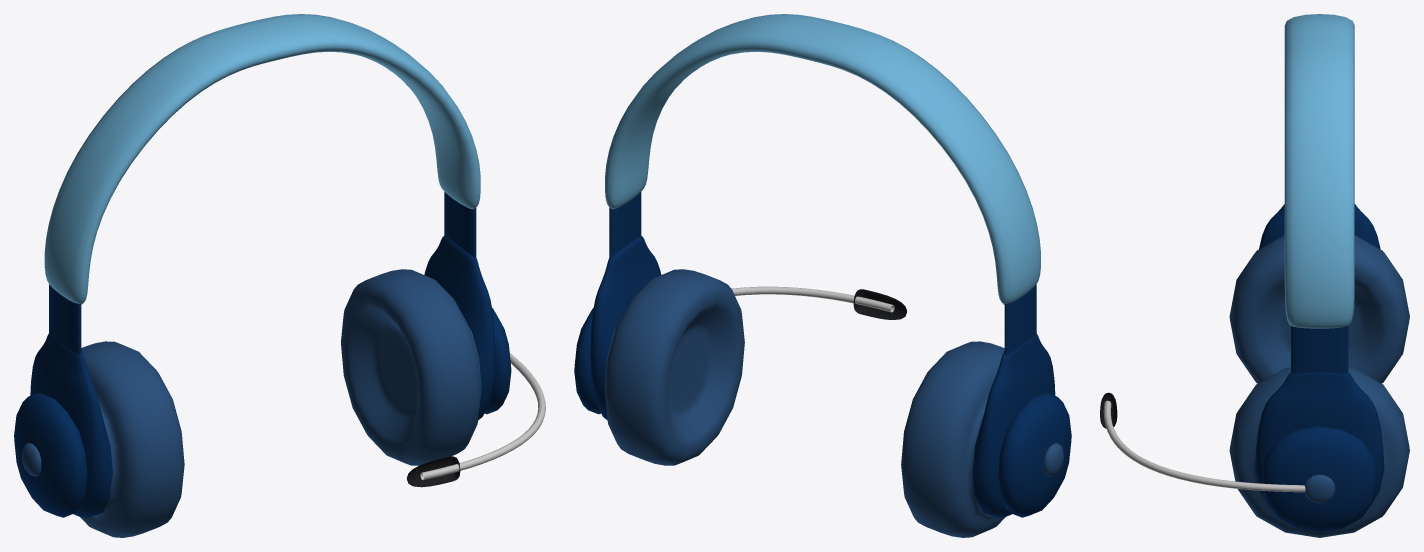
The model's file is headPhone.glb.
3 views of the same model, side by side, from view 1: azimuth 30°, elevation 25°; view 2: azimuth 150°, elevation 25°; view 3: azimuth 270°, elevation 25° (orthographic). The views are drawn at different scales.
Visible parts, largest first — view 1: connection, speaker, mic; view 2: connection, speaker, mic; view 3: connection, speaker, mic.
Part boxes in pixels (bbox=[...]): connection: bbox=[14, 14, 511, 517]; speaker: bbox=[80, 269, 481, 537]; mic: bbox=[21, 353, 545, 487]; connection: bbox=[574, 14, 1071, 517]; speaker: bbox=[604, 269, 1005, 537]; mic: bbox=[732, 286, 1063, 476]; connection: bbox=[1255, 14, 1384, 532]; speaker: bbox=[1229, 235, 1409, 537]; mic: bbox=[1100, 392, 1335, 503].
Bounding box in the file's own units: 10.22 × 9.49 × 6.23.
Materials: 1 (1 with a texture image).
